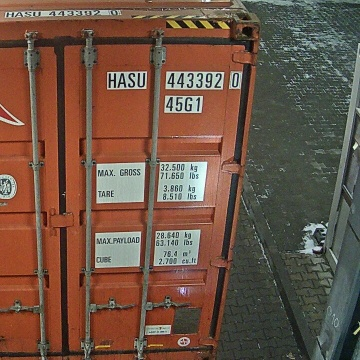serial_id: (108, 73, 239, 87)
